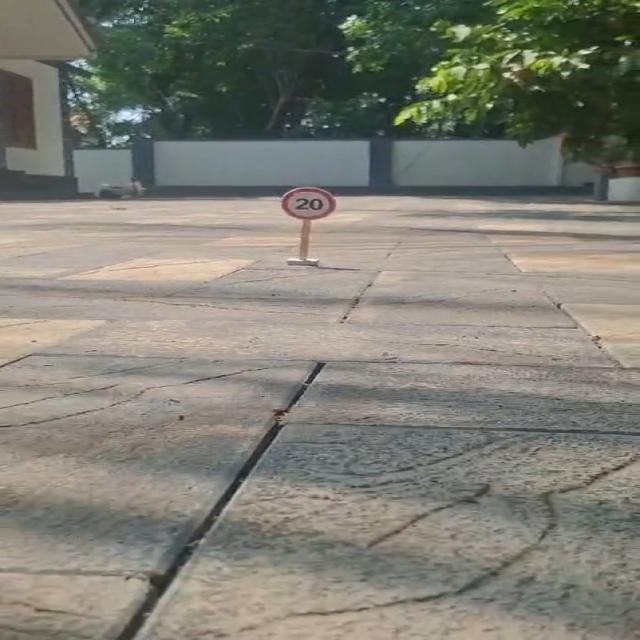Speed20: (276, 183, 343, 223)
